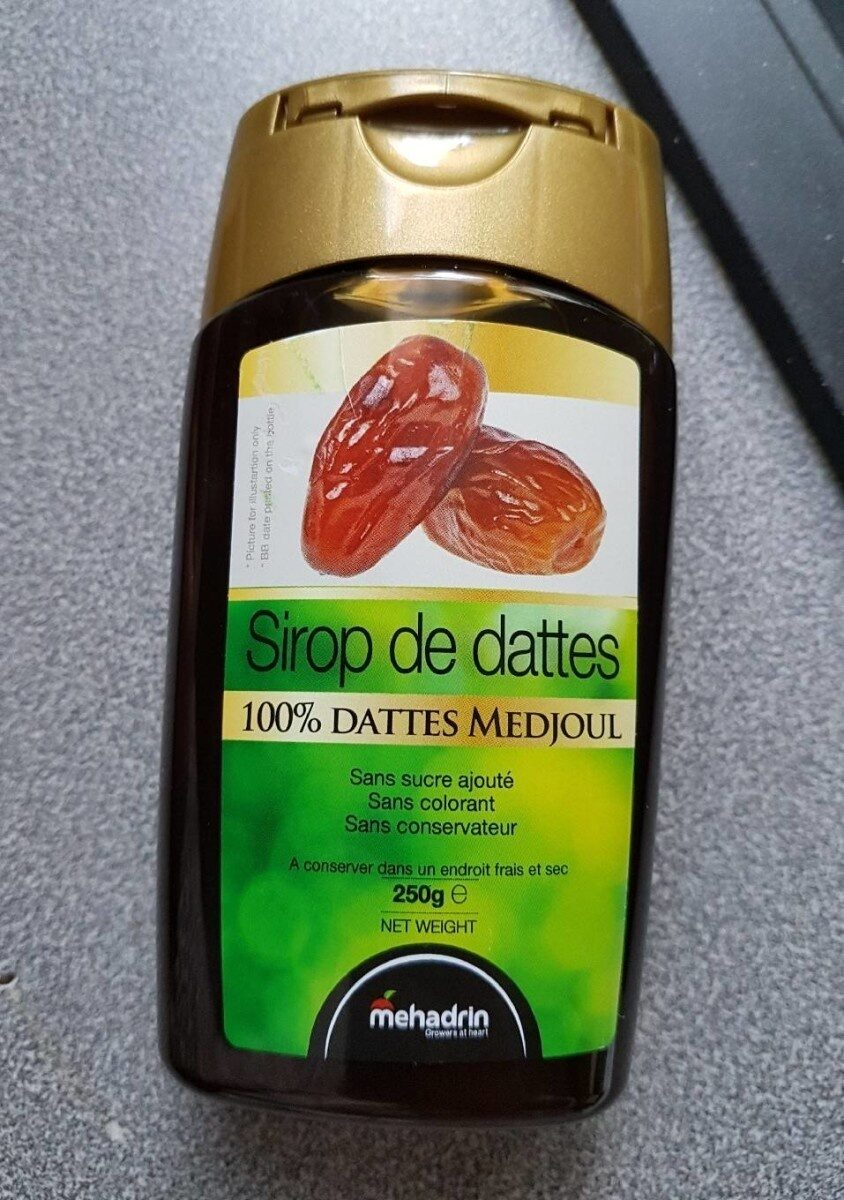Sirop de dattes: (42, 60, 802, 1140)
